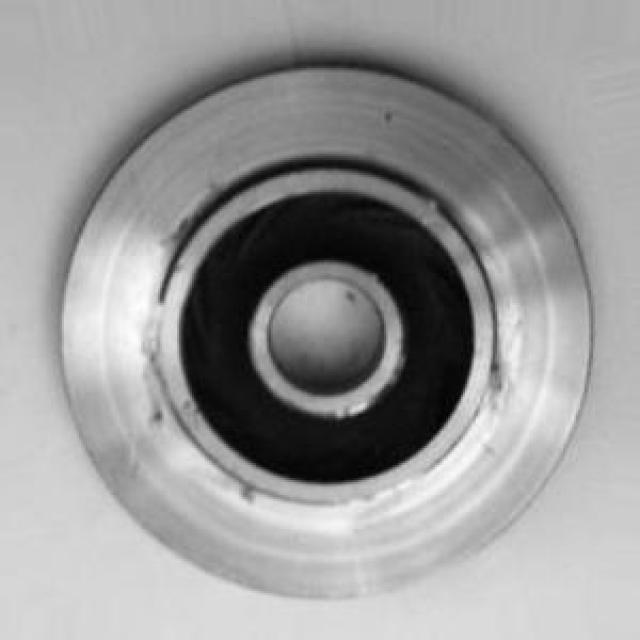Defect: (482, 362, 512, 412)
